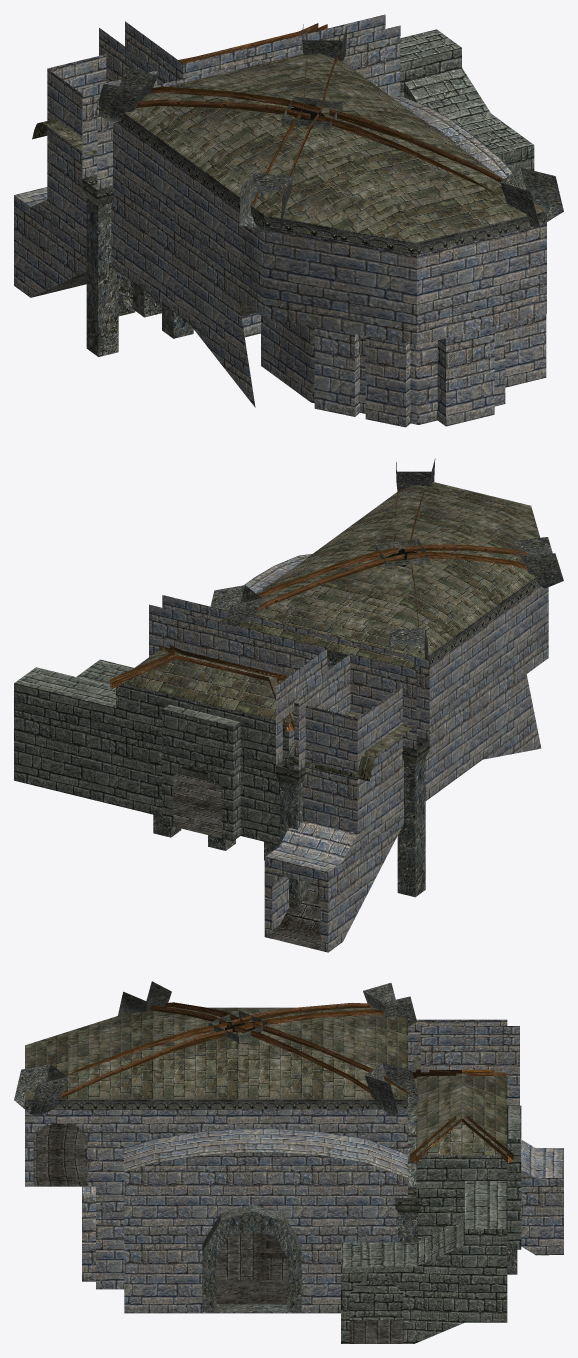
Rendered from cci01.glb.
The picture shows the model from 3 angles, top to bottom: view 1: azimuth 30°, elevation 25°; view 2: azimuth 150°, elevation 25°; view 3: azimuth 270°, elevation 25°; orthographic projection. The views are drawn at different scales.
Visible parts, largest first — view 1: cci01-col; view 2: cci01-col; view 3: cci01-col.
Boxes of the visible parts, x1,y1,x2,y2 form: cci01-col: (14,14,563,427); cci01-col: (14,458,563,952); cci01-col: (14,981,563,1343).
Size of the model in its own units: 14.22 by 10.2 by 19.39.
Materials: 9 (9 with a texture image).
